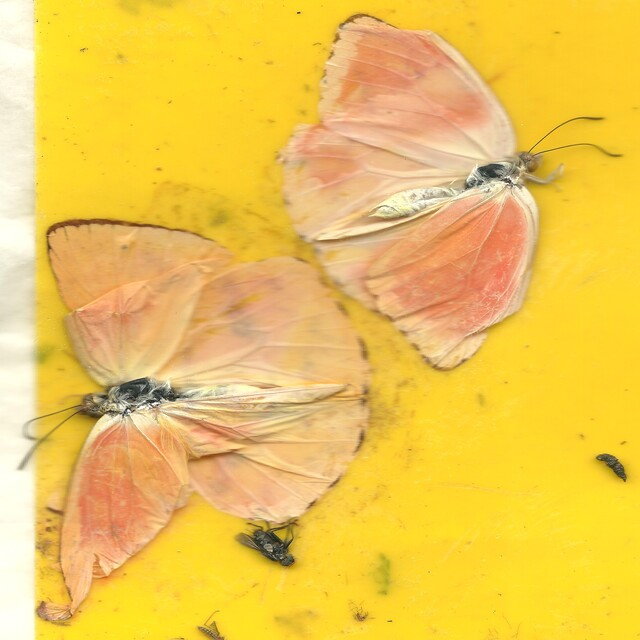Brachycera: (234, 518, 298, 568)
Lepidoptera: (17, 218, 374, 626), (280, 14, 623, 371)
